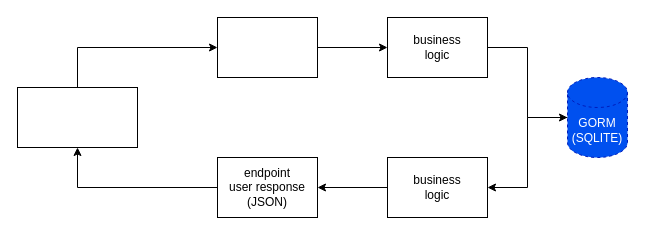
Image size: 645x235. Some labels were removed from this diagram. The box of each missing label's shape, as (x1, y1, x2, y2) in pixels:
endpoint user request (JSON): (216, 16, 318, 78)
user: (16, 86, 138, 148)
